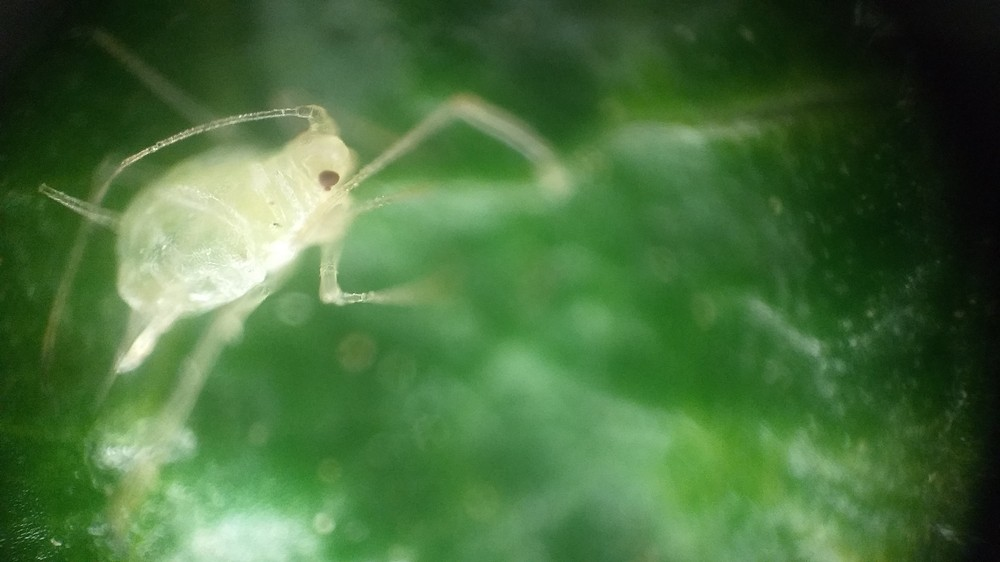Pulgon: (32, 33, 572, 426)
